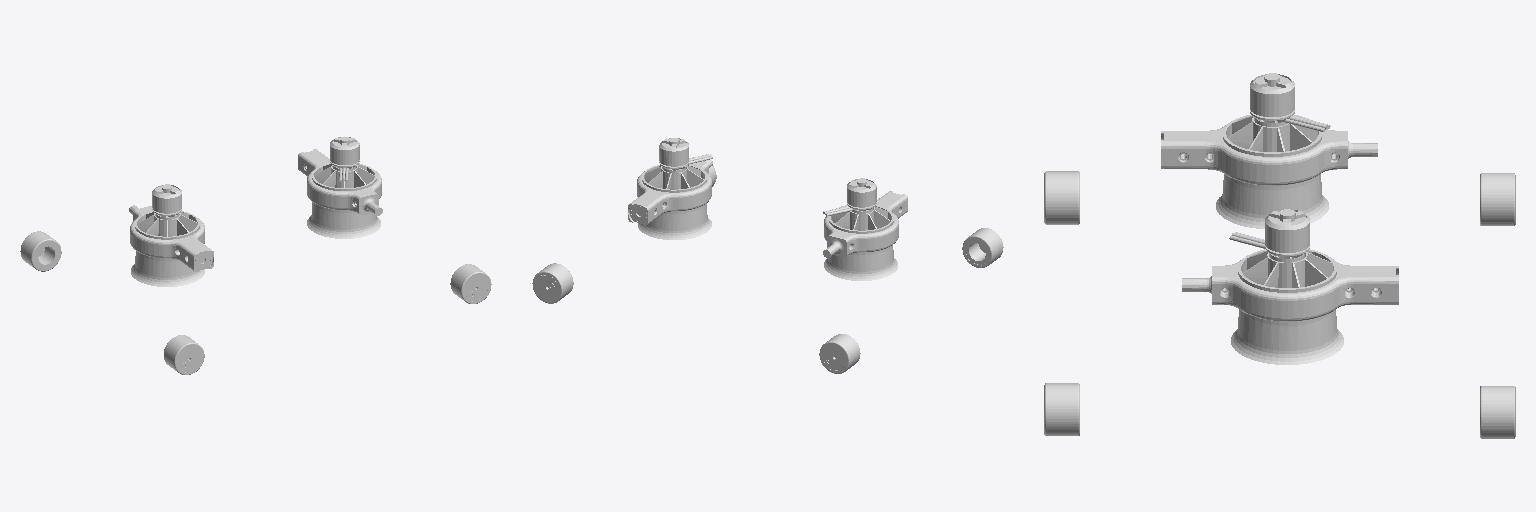
robot.urdf — Micro2_URDFV2:
<?xml version="1.0" encoding="utf-8"?>
<!-- This URDF was automatically created by SolidWorks to URDF Exporter! Originally created by Stephen Brawner (brawner@gmail.com) 
     Commit Version: 1.6.0-4-g7f85cfe  Build Version: 1.6.7995.38578
     For more information, please see http://wiki.ros.org/sw_urdf_exporter -->
<robot
  name="Micro2_URDFV2">
  <link
    name="Base_link">
    <inertial>
      <origin
        xyz="-0.00039053 -0.018179 0.018949"
        rpy="0 0 0" />
      <mass
        value="0.39528" />
      <inertia
        ixx="0.00085731"
        ixy="1.0604E-05"
        ixz="4.028E-08"
        iyy="0.0011306"
        iyz="-7.2428E-07"
        izz="0.0018851" />
    </inertial>
    <visual>
      <origin
        xyz="0 0 0"
        rpy="0 0 0" />
      <geometry>
        <mesh
          filename="package://Micro2_URDFV2/meshes/Base_link.STL" />
      </geometry>
      <material
        name="">
        <color
          rgba="0.89412 0.89412 0.89412 1" />
      </material>
    </visual>
    <collision>
      <origin
        xyz="0 0 0"
        rpy="0 0 0" />
      <geometry>
        <mesh
          filename="package://Micro2_URDFV2/meshes/Base_link.STL" />
      </geometry>
    </collision>
  </link>
  <link
    name="Turbine_Servo_F_Link">
    <inertial>
      <origin
        xyz="-7.0274E-05 0.005984 -0.06429"
        rpy="0 0 0" />
      <mass
        value="0.051373" />
      <inertia
        ixx="3.9363E-05"
        ixy="2.3207E-08"
        ixz="8.738E-08"
        iyy="4.6769E-05"
        iyz="6.3139E-08"
        izz="1.4196E-05" />
    </inertial>
    <visual>
      <origin
        xyz="0 0 0"
        rpy="0 0 0" />
      <geometry>
        <mesh
          filename="package://Micro2_URDFV2/meshes/Turbine_Servo_F_Link.STL" />
      </geometry>
      <material
        name="">
        <color
          rgba="0.89412 0.89412 0.89412 1" />
      </material>
    </visual>
    <collision>
      <origin
        xyz="0 0 0"
        rpy="0 0 0" />
      <geometry>
        <mesh
          filename="package://Micro2_URDFV2/meshes/Turbine_Servo_F_Link.STL" />
      </geometry>
    </collision>
  </link>
  <joint
    name="Turbine_Servo_F_Joint"
    type="revolute">
    <origin
      xyz="0.090002 -0.055 0.0415"
      rpy="1.5708 0 0" />
    <parent
      link="Base_link" />
    <child
      link="Turbine_Servo_F_Link" />
    <axis
      xyz="0 0 1" />
    <limit
      lower="-0.7854"
      upper="0.7854"
      effort="100"
      velocity="100" />
  </joint>
  <link
    name="Turbine_F_Link">
    <inertial>
      <origin
        xyz="7.1158E-05 -8.1851E-09 -0.0084945"
        rpy="0 0 0" />
      <mass
        value="0.0061435" />
      <inertia
        ixx="4.1969E-07"
        ixy="-3.8487E-13"
        ixz="-6.1133E-10"
        iyy="4.1968E-07"
        iyz="-2.5339E-13"
        izz="4.9293E-07" />
    </inertial>
    <visual>
      <origin
        xyz="0 0 0"
        rpy="0 0 0" />
      <geometry>
        <mesh
          filename="package://Micro2_URDFV2/meshes/Turbine_F_Link.STL" />
      </geometry>
      <material
        name="">
        <color
          rgba="0.89412 0.89412 0.89412 1" />
      </material>
    </visual>
    <collision>
      <origin
        xyz="0 0 0"
        rpy="0 0 0" />
      <geometry>
        <mesh
          filename="package://Micro2_URDFV2/meshes/Turbine_F_Link.STL" />
      </geometry>
    </collision>
  </link>
  <joint
    name="Turbine_F_Joint"
    type="continuous">
    <origin
      xyz="-0.00026492 -0.031428 -0.05925"
      rpy="1.5708 0 0" />
    <parent
      link="Turbine_Servo_F_Link" />
    <child
      link="Turbine_F_Link" />
    <axis
      xyz="0 0 1" />
    <limit
      effort="100"
      velocity="100" />
  </joint>
  <link
    name="Turbine_Servo_R_Link">
    <inertial>
      <origin
        xyz="6.8206E-05 0.005984 0.06429"
        rpy="0 0 0" />
      <mass
        value="0.051373" />
      <inertia
        ixx="3.9363E-05"
        ixy="-2.3205E-08"
        ixz="8.8189E-08"
        iyy="4.6769E-05"
        iyz="-6.314E-08"
        izz="1.4196E-05" />
    </inertial>
    <visual>
      <origin
        xyz="0 0 0"
        rpy="0 0 0" />
      <geometry>
        <mesh
          filename="package://Micro2_URDFV2/meshes/Turbine_Servo_R_Link.STL" />
      </geometry>
      <material
        name="">
        <color
          rgba="0.89412 0.89412 0.89412 1" />
      </material>
    </visual>
    <collision>
      <origin
        xyz="0 0 0"
        rpy="0 0 0" />
      <geometry>
        <mesh
          filename="package://Micro2_URDFV2/meshes/Turbine_Servo_R_Link.STL" />
      </geometry>
    </collision>
  </link>
  <joint
    name="Turbine_Servo_R_Joint"
    type="revolute">
    <origin
      xyz="-0.09 0.055 0.0415"
      rpy="1.5708 0 0" />
    <parent
      link="Base_link" />
    <child
      link="Turbine_Servo_R_Link" />
    <axis
      xyz="0 0 1" />
    <limit
      lower="-0.7854"
      upper="0.7854"
      effort="100"
      velocity="100" />
  </joint>
  <link
    name="Turbine_R_Link">
    <inertial>
      <origin
        xyz="-7.1158E-05 5.8975E-09 -0.0084945"
        rpy="0 0 0" />
      <mass
        value="0.0061435" />
      <inertia
        ixx="4.1969E-07"
        ixy="-3.8453E-13"
        ixz="6.1133E-10"
        iyy="4.1968E-07"
        iyz="2.7312E-13"
        izz="4.9293E-07" />
    </inertial>
    <visual>
      <origin
        xyz="0 0 0"
        rpy="0 0 0" />
      <geometry>
        <mesh
          filename="package://Micro2_URDFV2/meshes/Turbine_R_Link.STL" />
      </geometry>
      <material
        name="">
        <color
          rgba="0.89412 0.89412 0.89412 1" />
      </material>
    </visual>
    <collision>
      <origin
        xyz="0 0 0"
        rpy="0 0 0" />
      <geometry>
        <mesh
          filename="package://Micro2_URDFV2/meshes/Turbine_R_Link.STL" />
      </geometry>
    </collision>
  </link>
  <joint
    name="Turbine_R_Joint"
    type="continuous">
    <origin
      xyz="0.00026302 -0.031428 0.05925"
      rpy="1.5708 0 0" />
    <parent
      link="Turbine_Servo_R_Link" />
    <child
      link="Turbine_R_Link" />
    <axis
      xyz="0 0 1" />
    <limit
      effort="100"
      velocity="100" />
  </joint>
  <link
    name="Wheel_FL_Link">
    <inertial>
      <origin
        xyz="-2.6531E-06 -7.8327E-05 -0.0059207"
        rpy="0 0 0" />
      <mass
        value="0.010874" />
      <inertia
        ixx="1.1208E-06"
        ixy="4.6507E-10"
        ixz="-7.7246E-10"
        iyy="1.1207E-06"
        iyz="-6.5341E-10"
        izz="1.5186E-06" />
    </inertial>
    <visual>
      <origin
        xyz="0 0 0"
        rpy="0 0 0" />
      <geometry>
        <mesh
          filename="package://Micro2_URDFV2/meshes/Wheel_FL_Link.STL" />
      </geometry>
      <material
        name="">
        <color
          rgba="0.89412 0.89412 0.89412 1" />
      </material>
    </visual>
    <collision>
      <origin
        xyz="0 0 0"
        rpy="0 0 0" />
      <geometry>
        <mesh
          filename="package://Micro2_URDFV2/meshes/Wheel_FL_Link.STL" />
      </geometry>
    </collision>
  </link>
  <joint
    name="Wheel_FL_Joint"
    type="continuous">
    <origin
      xyz="0.142 0.12909 -0.013419"
      rpy="-1.5708 0 0" />
    <parent
      link="Base_link" />
    <child
      link="Wheel_FL_Link" />
    <axis
      xyz="0 0 1" />
    <limit
      effort="100"
      velocity="100" />
  </joint>
  <link
    name="Wheel_FR_Link">
    <inertial>
      <origin
        xyz="-2.6531E-06 7.8327E-05 0.0059207"
        rpy="0 0 0" />
      <mass
        value="0.010874" />
      <inertia
        ixx="1.1208E-06"
        ixy="-4.6507E-10"
        ixz="7.7246E-10"
        iyy="1.1207E-06"
        iyz="-6.5341E-10"
        izz="1.5186E-06" />
    </inertial>
    <visual>
      <origin
        xyz="0 0 0"
        rpy="0 0 0" />
      <geometry>
        <mesh
          filename="package://Micro2_URDFV2/meshes/Wheel_FR_Link.STL" />
      </geometry>
      <material
        name="">
        <color
          rgba="0.89412 0.89412 0.89412 1" />
      </material>
    </visual>
    <collision>
      <origin
        xyz="0 0 0"
        rpy="0 0 0" />
      <geometry>
        <mesh
          filename="package://Micro2_URDFV2/meshes/Wheel_FR_Link.STL" />
      </geometry>
    </collision>
  </link>
  <joint
    name="Wheel_FR_Joint"
    type="continuous">
    <origin
      xyz="0.142 -0.12909 -0.011481"
      rpy="-1.5708 0 0" />
    <parent
      link="Base_link" />
    <child
      link="Wheel_FR_Link" />
    <axis
      xyz="0 0 1" />
    <limit
      effort="100"
      velocity="100" />
  </joint>
  <link
    name="Wheel_RR_Link">
    <inertial>
      <origin
        xyz="-2.6531E-06 7.8327E-05 0.0059207"
        rpy="0 0 0" />
      <mass
        value="0.010874" />
      <inertia
        ixx="1.1208E-06"
        ixy="-4.6507E-10"
        ixz="7.7246E-10"
        iyy="1.1207E-06"
        iyz="-6.5341E-10"
        izz="1.5186E-06" />
    </inertial>
    <visual>
      <origin
        xyz="0 0 0"
        rpy="0 0 0" />
      <geometry>
        <mesh
          filename="package://Micro2_URDFV2/meshes/Wheel_RR_Link.STL" />
      </geometry>
      <material
        name="">
        <color
          rgba="0.89412 0.89412 0.89412 1" />
      </material>
    </visual>
    <collision>
      <origin
        xyz="0 0 0"
        rpy="0 0 0" />
      <geometry>
        <mesh
          filename="package://Micro2_URDFV2/meshes/Wheel_RR_Link.STL" />
      </geometry>
    </collision>
  </link>
  <joint
    name="Wheel_RR_Joint"
    type="continuous">
    <origin
      xyz="-0.14196 -0.12909 -0.012381"
      rpy="-1.5708 0 0" />
    <parent
      link="Base_link" />
    <child
      link="Wheel_RR_Link" />
    <axis
      xyz="0 0 1" />
    <limit
      effort="100"
      velocity="100" />
  </joint>
  <link
    name="Wheel_RL_Link">
    <inertial>
      <origin
        xyz="2.6531E-06 7.8327E-05 -0.0059207"
        rpy="0 0 0" />
      <mass
        value="0.010874" />
      <inertia
        ixx="1.1208E-06"
        ixy="4.6507E-10"
        ixz="7.7246E-10"
        iyy="1.1207E-06"
        iyz="6.5341E-10"
        izz="1.5186E-06" />
    </inertial>
    <visual>
      <origin
        xyz="0 0 0"
        rpy="0 0 0" />
      <geometry>
        <mesh
          filename="package://Micro2_URDFV2/meshes/Wheel_RL_Link.STL" />
      </geometry>
      <material
        name="">
        <color
          rgba="0.89412 0.89412 0.89412 1" />
      </material>
    </visual>
    <collision>
      <origin
        xyz="0 0 0"
        rpy="0 0 0" />
      <geometry>
        <mesh
          filename="package://Micro2_URDFV2/meshes/Wheel_RL_Link.STL" />
      </geometry>
    </collision>
  </link>
  <joint
    name="Wheel_RL_Joint"
    type="continuous">
    <origin
      xyz="-0.142 0.12909 -0.013381"
      rpy="-1.5708 0 0" />
    <parent
      link="Base_link" />
    <child
      link="Wheel_RL_Link" />
    <axis
      xyz="0 0 1" />
    <limit
      effort="100"
      velocity="100" />
  </joint>
</robot>

--- Facts derived from the render (not from the file) ---
Views: 3 orthographic renders of the robot side by side, from view 1: azimuth 30°, elevation 25°; view 2: azimuth 150°, elevation 25°; view 3: azimuth 270°, elevation 25°.
Model Micro2_URDFV2 with 9 links and 8 joints (2 revolute, 6 continuous), rooted at Base_link, posed all joints at 0.
Links seen in each view (by area): view 1: Turbine_Servo_F_Link, Turbine_Servo_R_Link, Wheel_RL_Link, Wheel_RR_Link, Wheel_FR_Link; view 2: Turbine_Servo_R_Link, Turbine_Servo_F_Link, Wheel_FL_Link, Wheel_RR_Link, Wheel_RL_Link; view 3: Turbine_Servo_F_Link, Turbine_Servo_R_Link, Wheel_RR_Link, Wheel_FL_Link, Wheel_FR_Link, Wheel_RL_Link.
Link boxes in pixels (x1,y1,x2,y2): Turbine_Servo_F_Link: [298, 137, 382, 238]; Turbine_Servo_R_Link: [129, 184, 213, 286]; Wheel_RL_Link: [20, 231, 61, 271]; Wheel_RR_Link: [164, 335, 204, 374]; Wheel_FR_Link: [450, 264, 491, 303]; Turbine_Servo_R_Link: [823, 178, 907, 280]; Turbine_Servo_F_Link: [628, 138, 712, 239]; Wheel_FL_Link: [532, 263, 573, 303]; Wheel_RR_Link: [962, 228, 1003, 267]; Wheel_RL_Link: [819, 334, 860, 373]; Turbine_Servo_F_Link: [1182, 209, 1398, 364]; Turbine_Servo_R_Link: [1161, 73, 1377, 228]; Wheel_RR_Link: [1044, 171, 1079, 224]; Wheel_FL_Link: [1480, 386, 1515, 438]; Wheel_FR_Link: [1044, 383, 1079, 435]; Wheel_RL_Link: [1480, 173, 1515, 225].
Bounding box of the posed robot: 0.314 × 0.2652 × 0.1153 m (x, y, z).
Meshes: 9 distinct files referenced, 8 mesh visuals loaded (8 binary STL); not drawn: 1 (reference not matched to a file when rendering).
